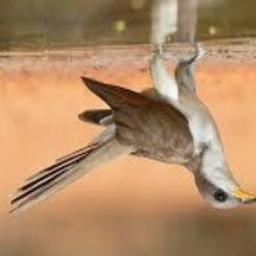Cuckoo: (9, 49, 256, 219)
